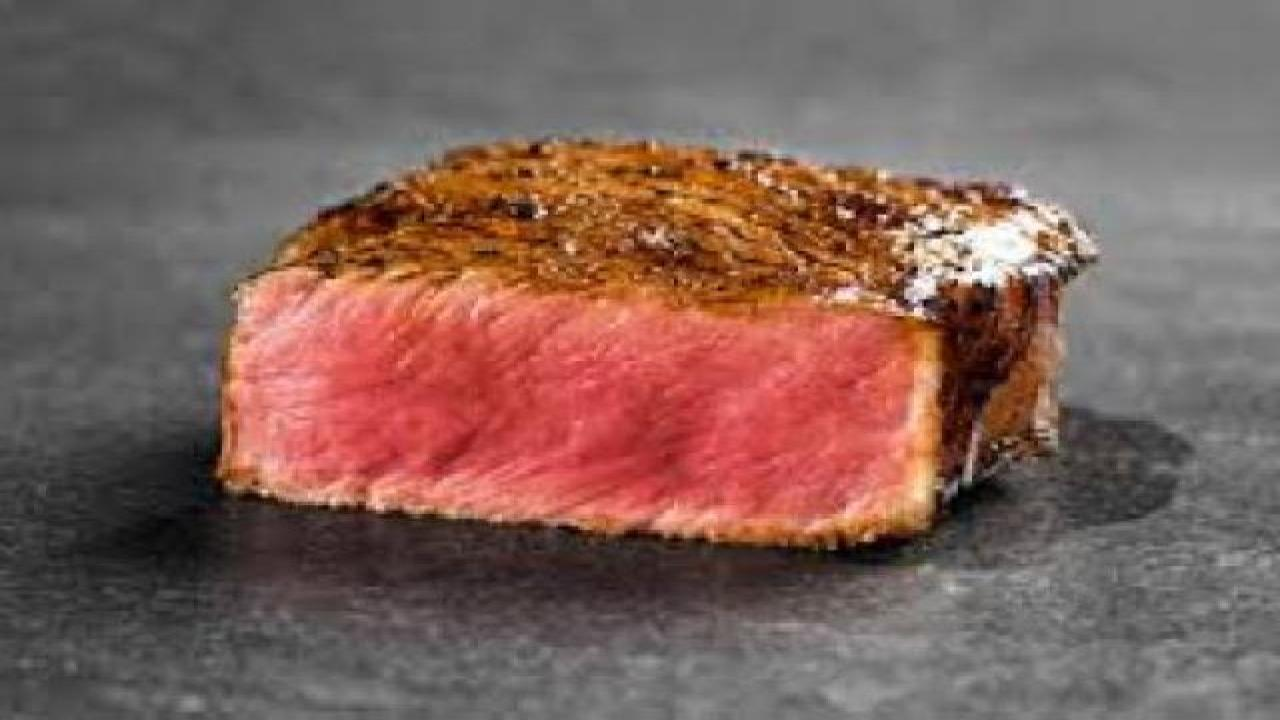Carne: (185, 262, 986, 526)
